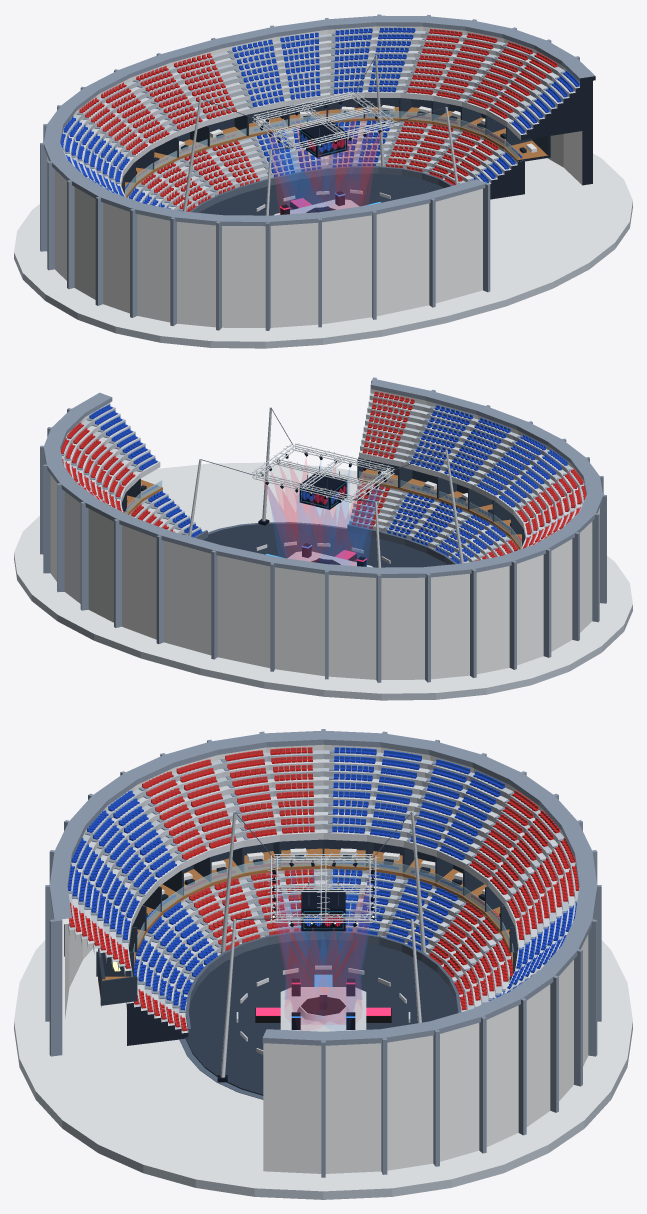
File: arena-cutaway-concert.glb
3 renders of one model, top to bottom at view 1: azimuth 30°, elevation 25°; view 2: azimuth 150°, elevation 25°; view 3: azimuth 270°, elevation 25°, orthographic. The views are drawn at different scales.
Parts seen in each view (by area): view 1: IndoorArenaCutaway, BakedInstances (×8); view 2: IndoorArenaCutaway, BakedInstances (×8); view 3: IndoorArenaCutaway, BakedInstances (×8).
Part boxes in pixels (left/top/right/bottom): IndoorArenaCutaway: left=14, top=14, right=632, bottom=348; BakedInstances (×8): left=60, top=27, right=579, bottom=211; IndoorArenaCutaway: left=14, top=377, right=632, bottom=700; BakedInstances (×8): left=60, top=391, right=586, bottom=563; IndoorArenaCutaway: left=14, top=729, right=632, bottom=1199; BakedInstances (×8): left=68, top=747, right=578, bottom=1031.
Size of the model in its own units: 77 by 17.24 by 59.
31 materials, 1 textured.
